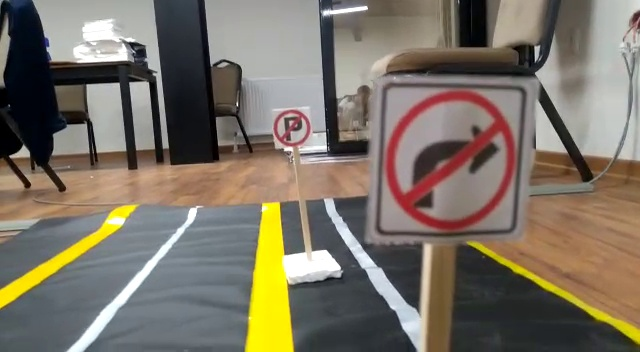park_yapilmaz: (275, 107, 311, 145)
saga_donulmez: (380, 91, 522, 235)
